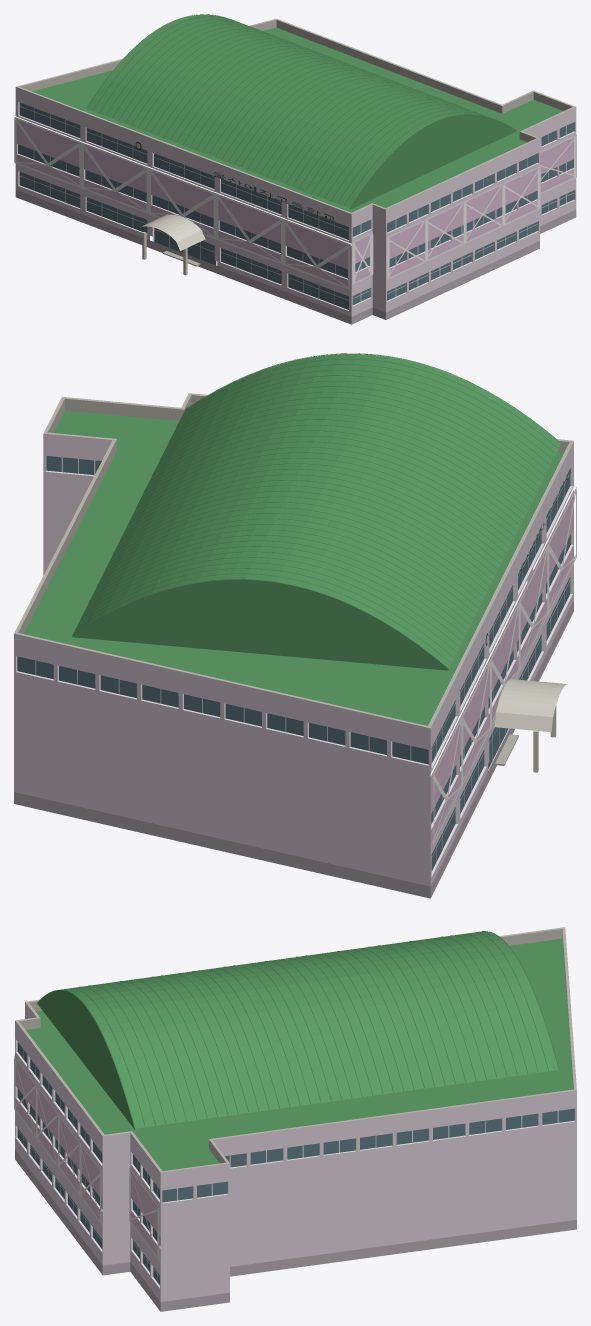
The picture shows the model from 3 angles, top to bottom: view 1: azimuth 30°, elevation 25°; view 2: azimuth 150°, elevation 25°; view 3: azimuth 270°, elevation 25°; orthographic projection. The views are drawn at different scales.
Parts seen in each view (by area): view 1: hall2__roof, hall2__wall-plaster, hall2__glass, hall2__accent-plaster, hall2__brace-concrete, hall2__roof-rib, hall2__parapet-concrete, hall2__base-stone, hall2__trim-concrete, hall2__frame, hall2__canopy-concrete; view 2: hall2__roof, hall2__wall-plaster, hall2__roof-rib, hall2__glass, hall2__parapet-concrete, hall2__base-stone, hall2__accent-plaster, hall2__trim-concrete, hall2__brace-concrete, hall2__canopy-concrete, hall2__frame; view 3: hall2__roof, hall2__wall-plaster, hall2__roof-rib, hall2__glass, hall2__base-stone, hall2__accent-plaster, hall2__parapet-concrete, hall2__trim-concrete, hall2__brace-concrete, hall2__frame.
Part boxes in pixels (left/top/right/bottom): hall2__roof: left=32, top=14, right=563, bottom=212; hall2__wall-plaster: left=15, top=87, right=576, bottom=316; hall2__glass: left=18, top=102, right=573, bottom=309; hall2__accent-plaster: left=16, top=119, right=574, bottom=288; hall2__brace-concrete: left=14, top=117, right=576, bottom=290; hall2__roof-rib: left=86, top=14, right=481, bottom=208; hall2__parapet-concrete: left=16, top=18, right=575, bottom=213; hall2__base-stone: left=15, top=190, right=576, bottom=324; hall2__trim-concrete: left=17, top=102, right=576, bottom=310; hall2__frame: left=19, top=106, right=573, bottom=304; hall2__canopy-concrete: left=140, top=214, right=205, bottom=275; hall2__roof: left=24, top=354, right=563, bottom=725; hall2__wall-plaster: left=14, top=433, right=573, bottom=886; hall2__roof-rib: left=72, top=353, right=560, bottom=668; hall2__glass: left=17, top=456, right=570, bottom=871; hall2__parapet-concrete: left=14, top=393, right=573, bottom=728; hall2__base-stone: left=14, top=600, right=573, bottom=898; hall2__accent-plaster: left=430, top=490, right=573, bottom=842; hall2__trim-concrete: left=16, top=456, right=573, bottom=876; hall2__brace-concrete: left=432, top=487, right=576, bottom=844; hall2__canopy-concrete: left=494, top=679, right=566, bottom=772; hall2__frame: left=35, top=457, right=570, bottom=863; hall2__roof: left=26, top=931, right=573, bottom=1170; hall2__wall-plaster: left=15, top=1002, right=576, bottom=1301; hall2__roof-rib: left=62, top=931, right=559, bottom=1128; hall2__glass: left=17, top=1042, right=574, bottom=1285; hall2__base-stone: left=15, top=1150, right=576, bottom=1311; hall2__accent-plaster: left=15, top=1058, right=160, bottom=1259; hall2__parapet-concrete: left=15, top=927, right=576, bottom=1172; hall2__trim-concrete: left=14, top=1039, right=575, bottom=1288; hall2__brace-concrete: left=14, top=1058, right=159, bottom=1259; hall2__frame: left=17, top=1049, right=558, bottom=1282.
Size of the model in its own units: 48.69 by 18.34 by 46.93.
